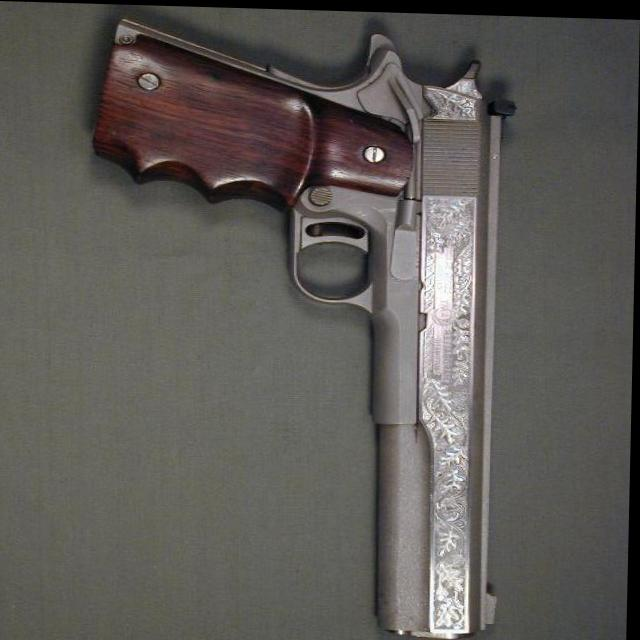handgun: (83, 16, 514, 638)
